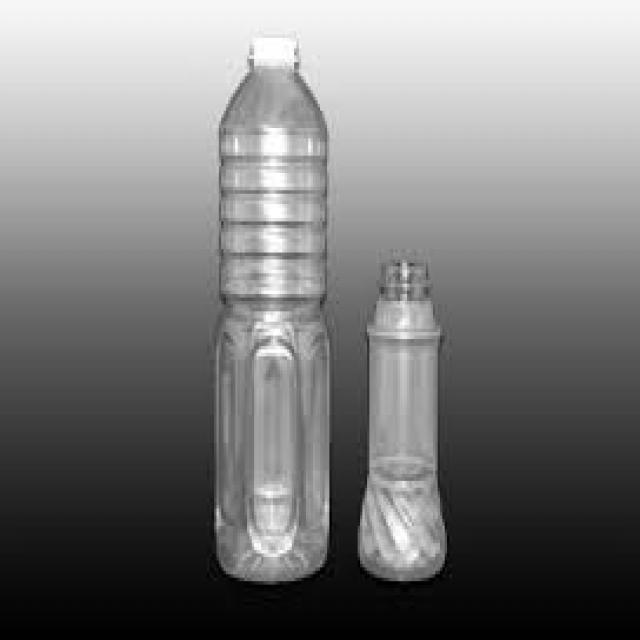Plastic: (212, 36, 330, 580), (357, 258, 442, 582)
